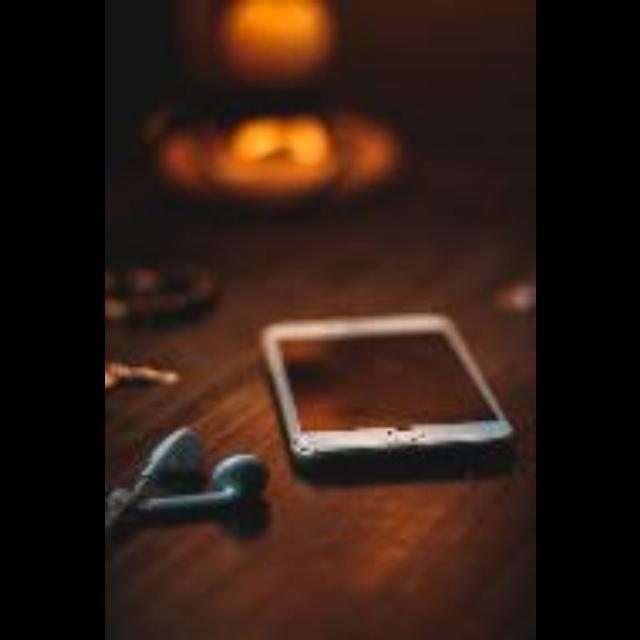phone: (260, 310, 522, 475)
